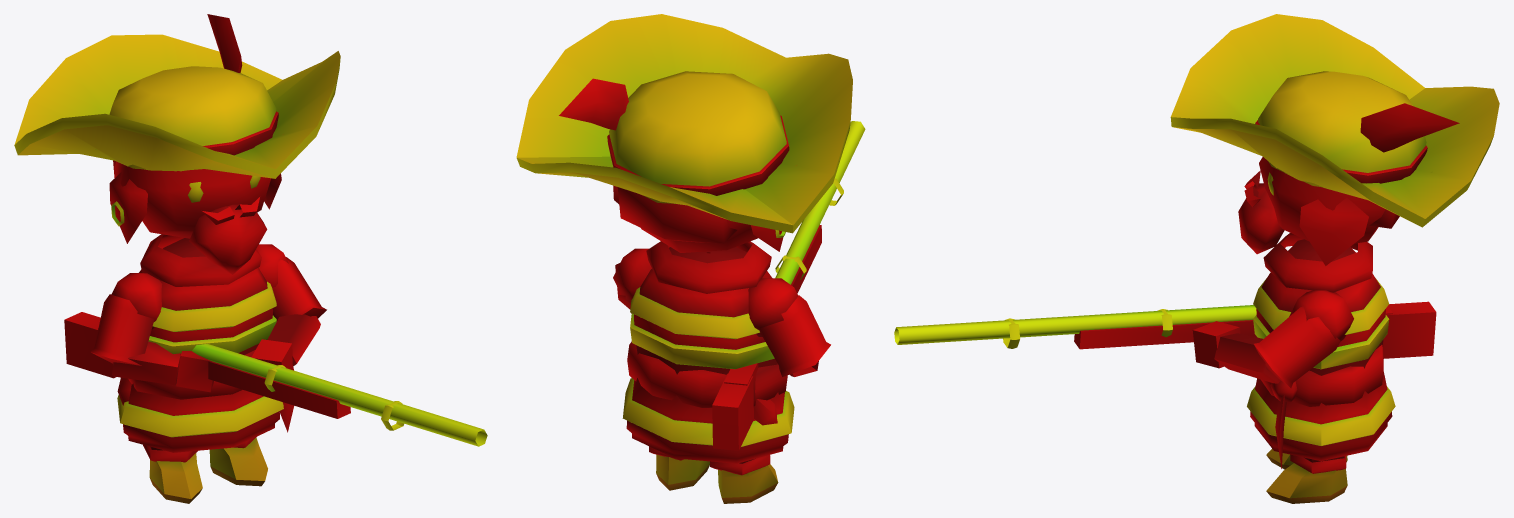
The model's file is PirateMusketeer_LOD1.glb.
3 renders of one model, left to right at view 1: azimuth 30°, elevation 25°; view 2: azimuth 150°, elevation 25°; view 3: azimuth 270°, elevation 25°, orthographic. The views are drawn at different scales.
Visible parts, largest first — view 1: PirateMusketeer_LOD1; view 2: PirateMusketeer_LOD1; view 3: PirateMusketeer_LOD1.
Boxes of the visible parts, <box> form: PirateMusketeer_LOD1: <box>14,14,487,503</box>; PirateMusketeer_LOD1: <box>516,14,865,503</box>; PirateMusketeer_LOD1: <box>894,14,1499,503</box>.
Bounding box in the file's own units: 0.6619 × 0.8788 × 1.17.
